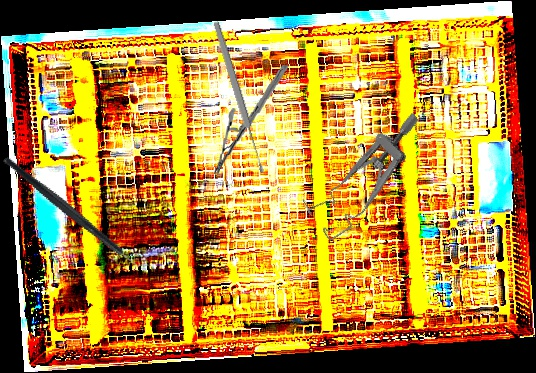Chopper: (2, 121, 153, 304)
Needle Holder: (213, 60, 288, 179)
Speculum: (293, 110, 448, 244)
Surgical Spoon: (211, 20, 267, 175)
